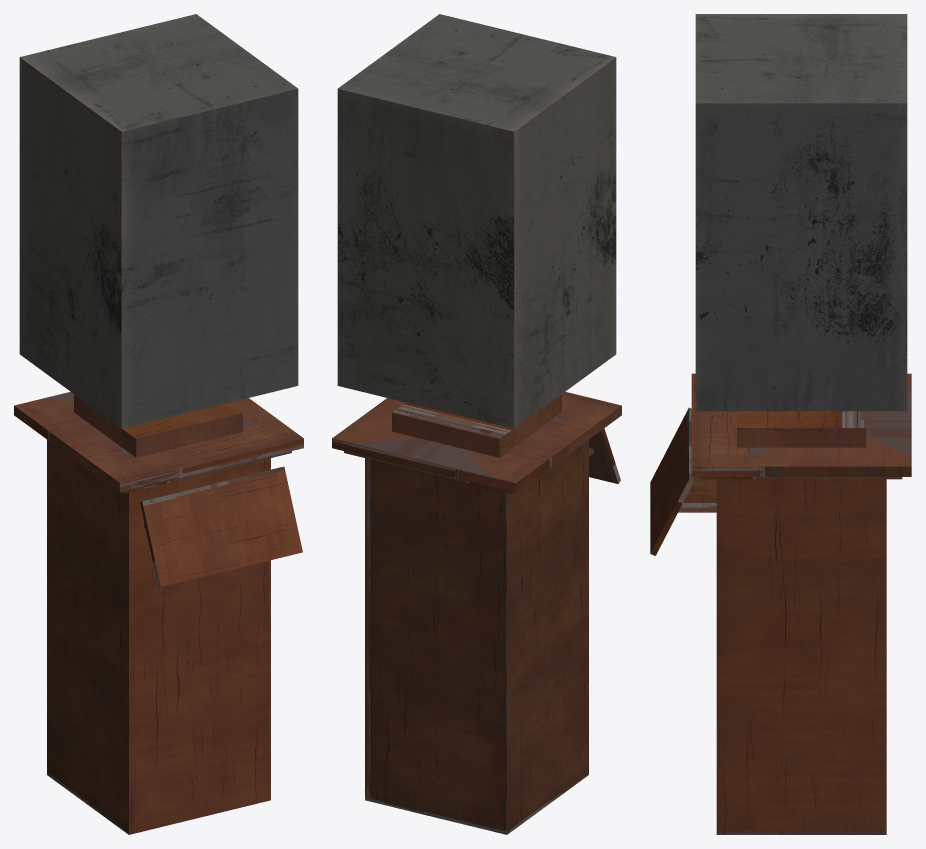
The model's file is Vitrine Ver 2.fbx.
3 renders of one model, left to right at view 1: azimuth 30°, elevation 25°; view 2: azimuth 150°, elevation 25°; view 3: azimuth 270°, elevation 25°, orthographic. The views are drawn at different scales.
Parts seen in each view (by area): view 1: Vitrine Glass, Vitrine Box; view 2: Vitrine Glass, Vitrine Box; view 3: Vitrine Glass, Vitrine Box.
Boxes of the visible parts, x1,y1,x2,y2 form: Vitrine Glass: [19, 14, 298, 428]; Vitrine Box: [14, 391, 303, 834]; Vitrine Glass: [337, 14, 616, 428]; Vitrine Box: [332, 391, 621, 834]; Vitrine Glass: [695, 14, 907, 411]; Vitrine Box: [650, 373, 911, 834].
Bounding box in the file's own units: 0.5647 × 0.6702 × 2.1.
Materials: 2 (2 with a texture image).
